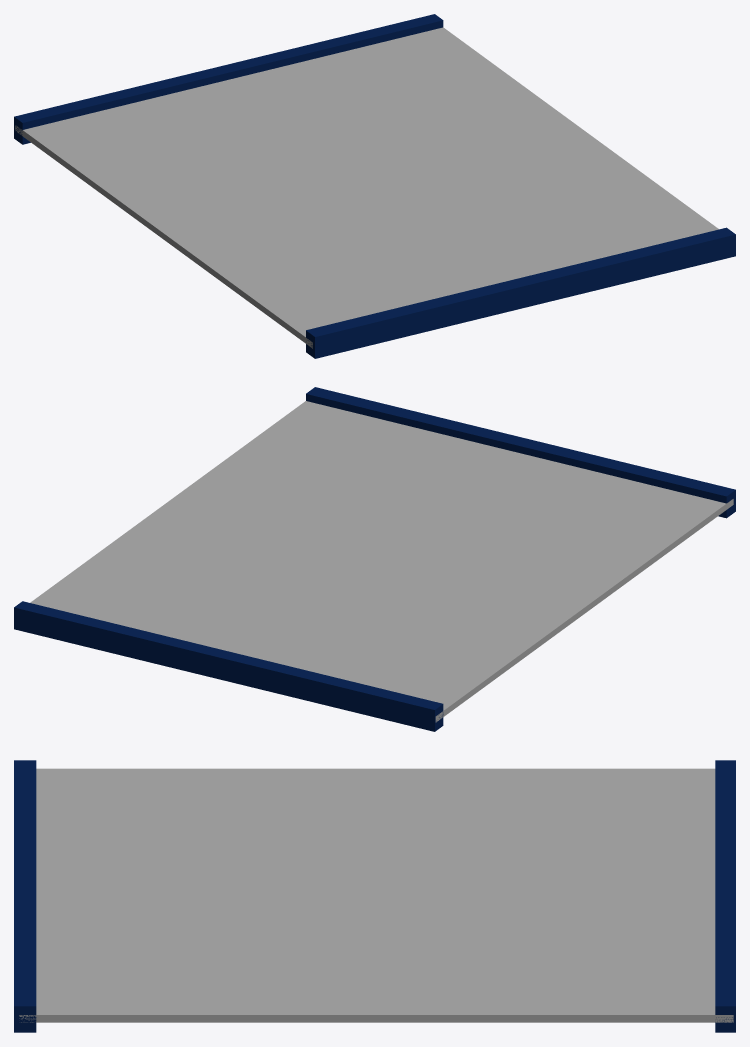
File: palette.fbx
3 views of the same model, one above another, from view 1: azimuth 30°, elevation 25°; view 2: azimuth 150°, elevation 25°; view 3: azimuth 270°, elevation 25° (orthographic). The views are drawn at different scales.
Visible parts, largest first — view 1: Palette, Support, Suport; view 2: Palette, Suport, Support; view 3: Palette, Support, Suport.
Boxes of the visible parts, <box> form: Palette: <box>15,27,718,348</box>; Support: <box>306,227,735,358</box>; Suport: <box>14,14,443,144</box>; Palette: <box>30,401,733,722</box>; Suport: <box>14,601,443,731</box>; Support: <box>306,387,735,518</box>; Palette: <box>19,768,733,1022</box>; Support: <box>14,760,36,1032</box>; Suport: <box>715,760,735,1032</box>.
Bounding box in the file's own units: 2.71 × 0.1345 × 3.36.
